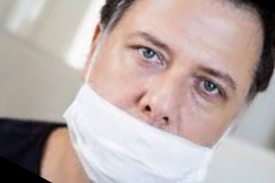mask_weared_incorrect: (65, 1, 262, 182)
